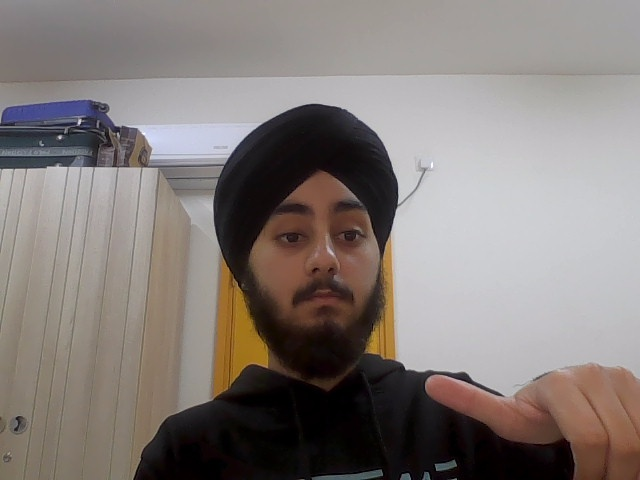Same: (424, 357, 640, 480)
